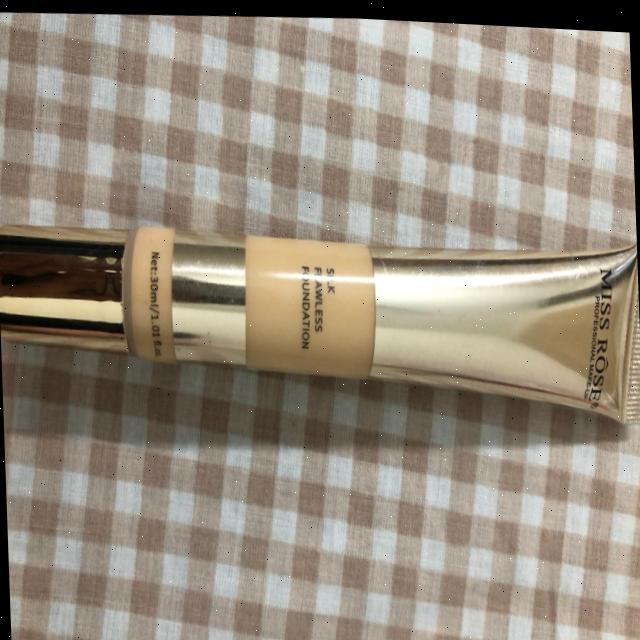bb cream: (0, 187, 640, 436)
